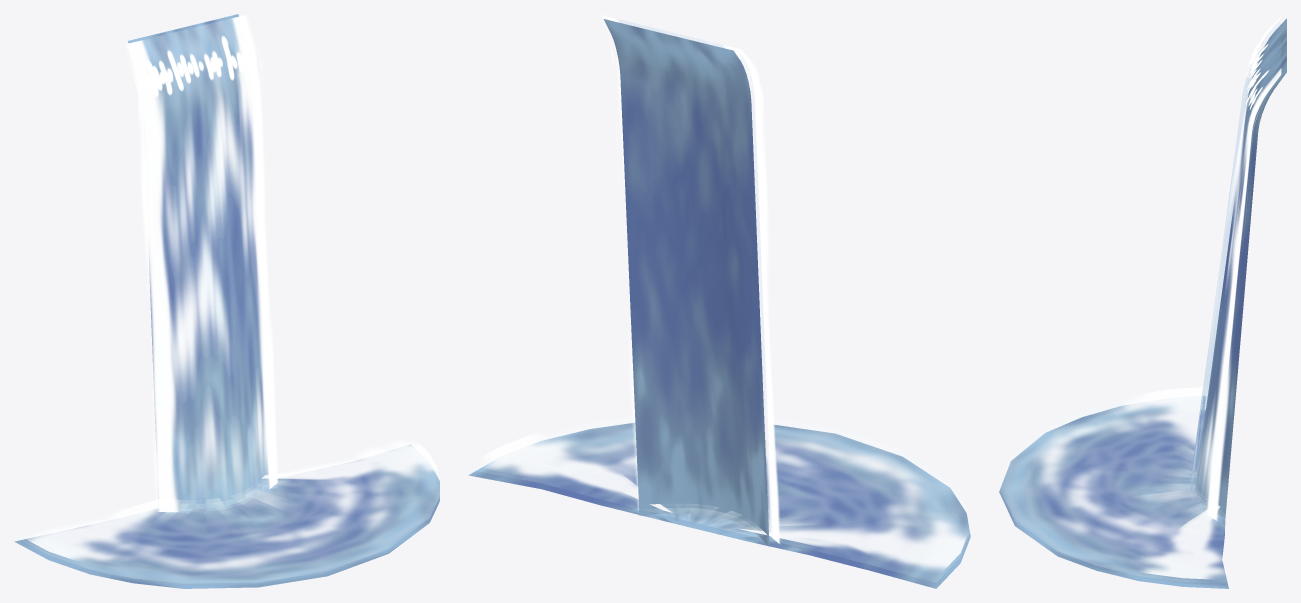
The model's file is waterfall.gltf.
3 renders of one model, left to right at view 1: azimuth 30°, elevation 25°; view 2: azimuth 150°, elevation 25°; view 3: azimuth 270°, elevation 25°, orthographic. The views are drawn at different scales.
Visible parts, largest first — view 1: waterfall_backdrop, watefall_bottom_backdrop, waterfall_foam, waterfall_voronoi, waterfall_foam_2, watefall_bottom_voronoi, watefall_bottom_foam, waterfall_highlights; view 2: waterfall_backdrop, watefall_bottom_backdrop, watefall_bottom_foam, watefall_bottom_voronoi, waterfall_foam, waterfall_foam_2; view 3: watefall_bottom_backdrop, watefall_bottom_voronoi, watefall_bottom_foam, waterfall_backdrop, waterfall_foam, waterfall_voronoi, waterfall_foam_2, waterfall_highlights.
Part boxes in pixels (x1,y1,x2,y2): waterfall_backdrop: (128,14,268,508); watefall_bottom_backdrop: (14,444,439,588); waterfall_foam: (126,15,277,512); waterfall_voronoi: (133,18,263,510); waterfall_foam_2: (126,15,277,511); watefall_bottom_voronoi: (17,458,439,583); watefall_bottom_foam: (25,440,438,571); waterfall_highlights: (144,36,252,97); waterfall_backdrop: (603,19,769,546); watefall_bottom_backdrop: (468,423,970,588); watefall_bottom_foam: (480,432,966,570); watefall_bottom_voronoi: (495,417,969,581); waterfall_foam: (601,15,779,543); waterfall_foam_2: (601,15,779,543); watefall_bottom_backdrop: (999,395,1228,588); watefall_bottom_voronoi: (1001,399,1221,581); watefall_bottom_foam: (1036,387,1227,579); waterfall_backdrop: (1195,18,1286,518); waterfall_foam: (1193,17,1281,520); waterfall_voronoi: (1190,20,1280,502); waterfall_foam_2: (1194,17,1280,519); waterfall_highlights: (1245,36,1268,109).
Bounding box in the file's own units: 3.59 × 3.88 × 2.24.
Materials: 8 (8 with a texture image).
